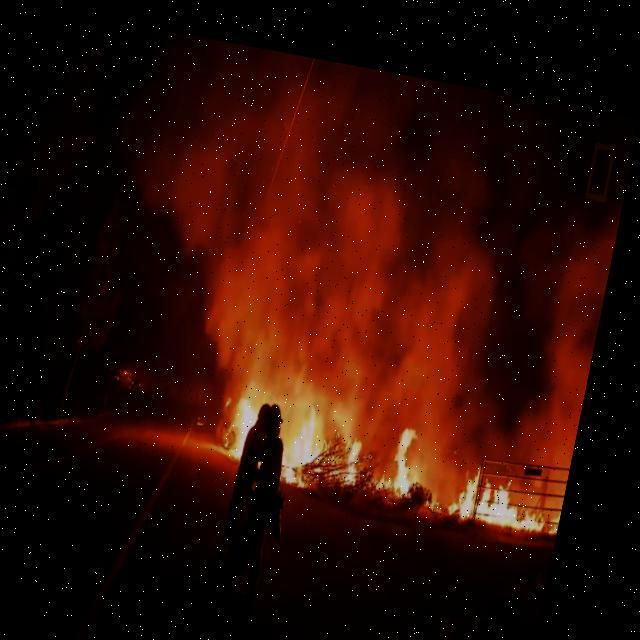Fire: (287, 356, 389, 484), (462, 443, 568, 513), (388, 402, 441, 484), (235, 376, 272, 448)
